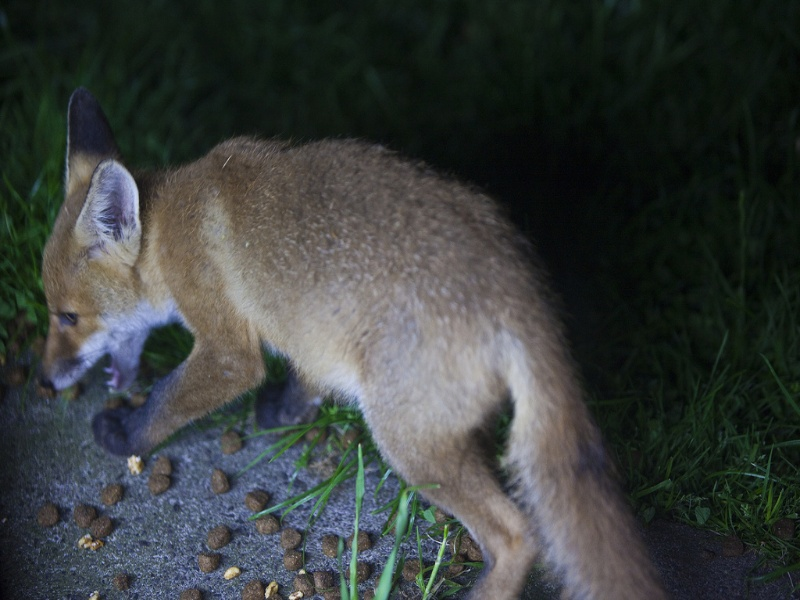fox: (31, 83, 677, 597)
